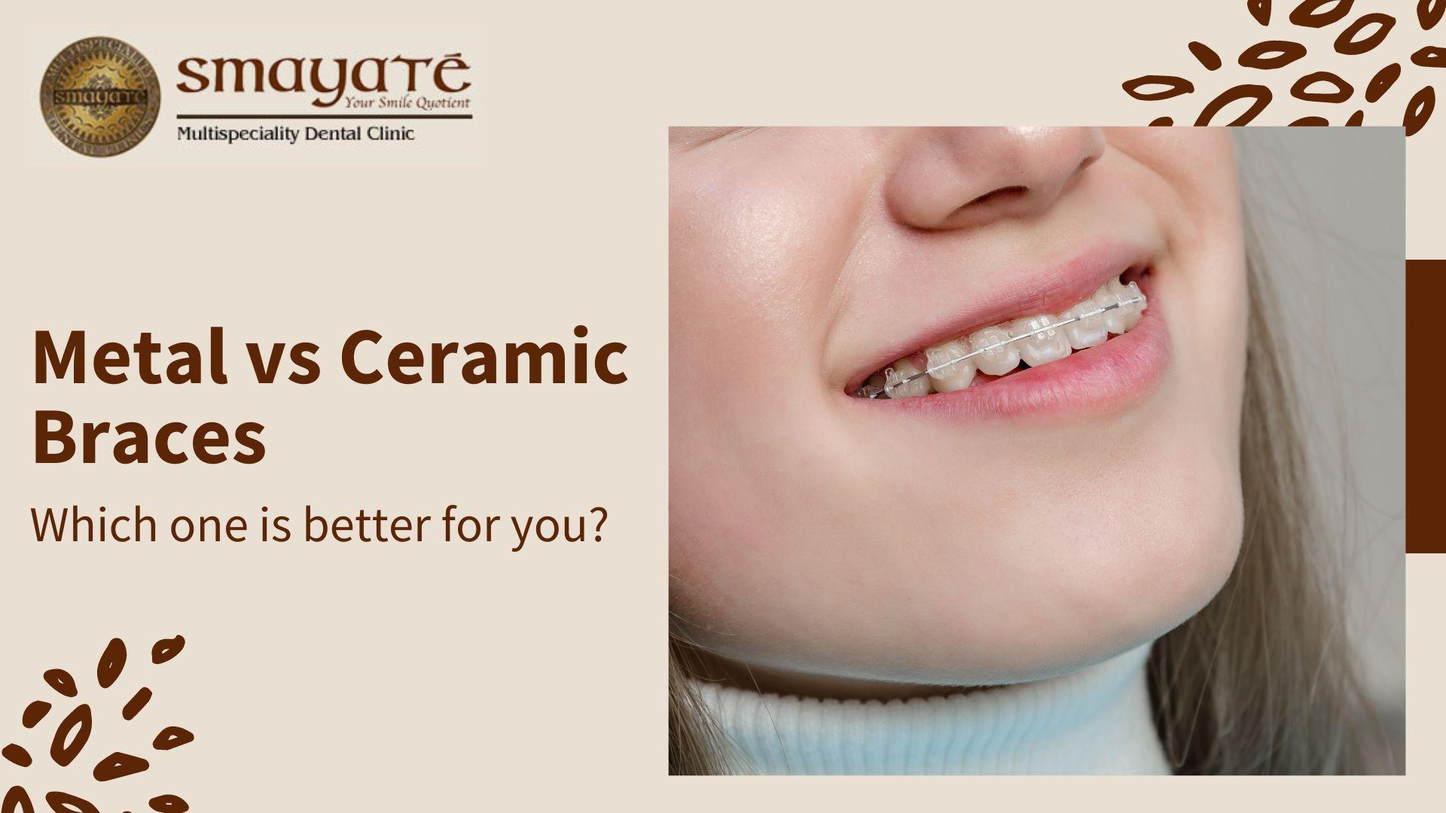Braces: (857, 279, 1190, 406)
